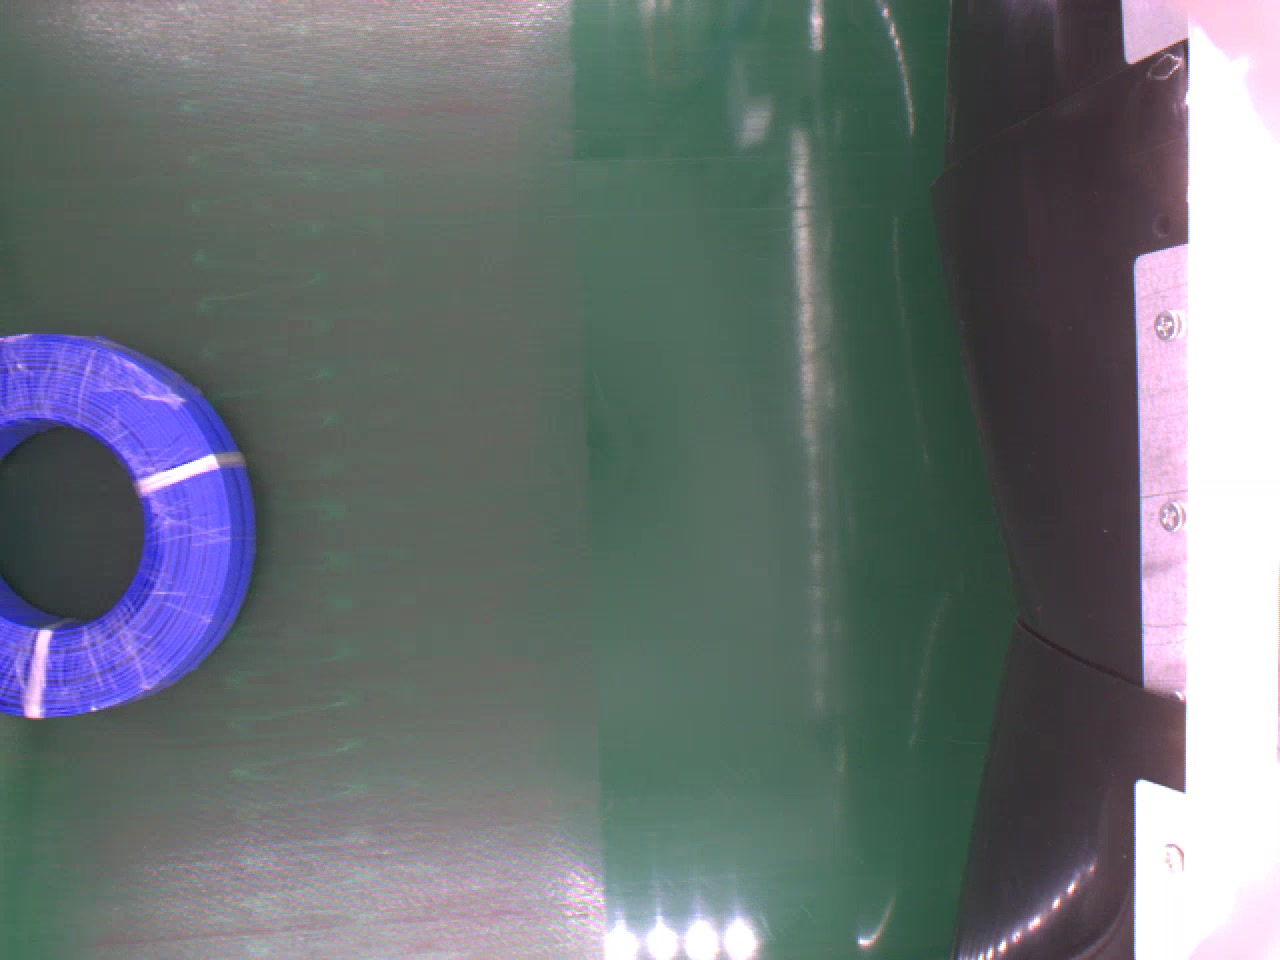blue: (0, 326, 260, 722)
